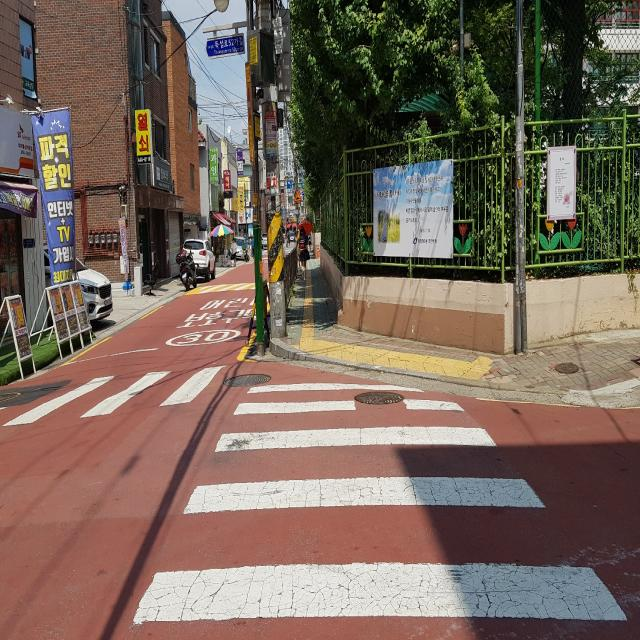횡단보도: (132, 382, 628, 624), (9, 360, 229, 428)
